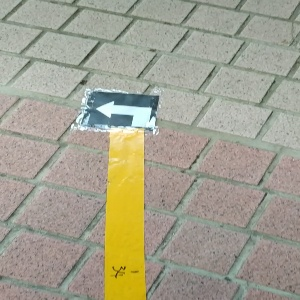left: (79, 90, 162, 130)
